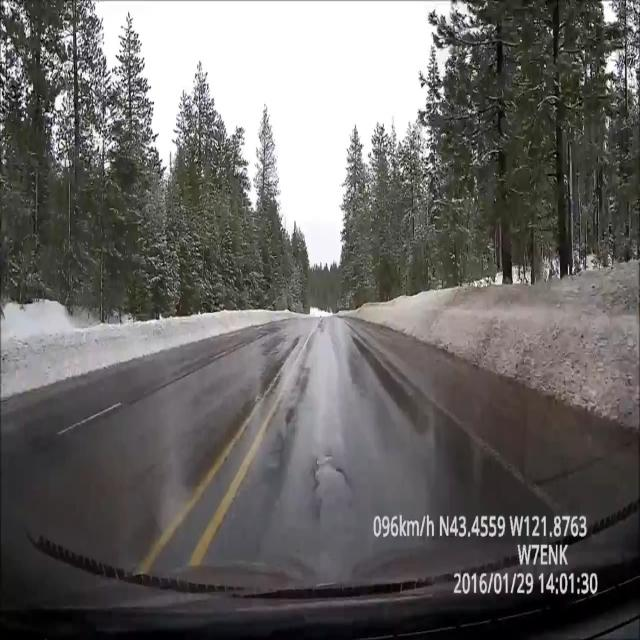Pothole: (310, 462, 356, 564)
